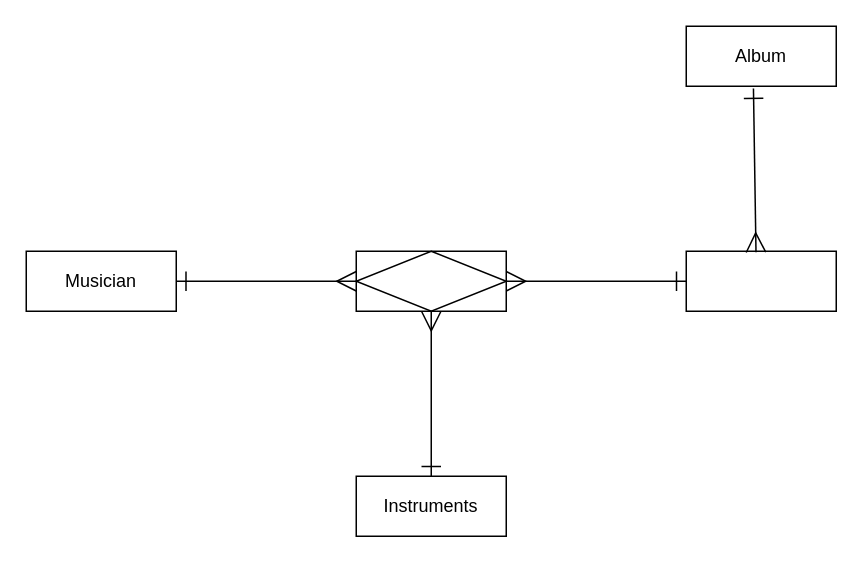
The diagram is 863 pixels wide and 563 high, and some of its shapes have lost their labels. Each missing label, with the box of its shape:
Performance: (355, 250, 506, 311)
Song: (685, 250, 836, 311)
